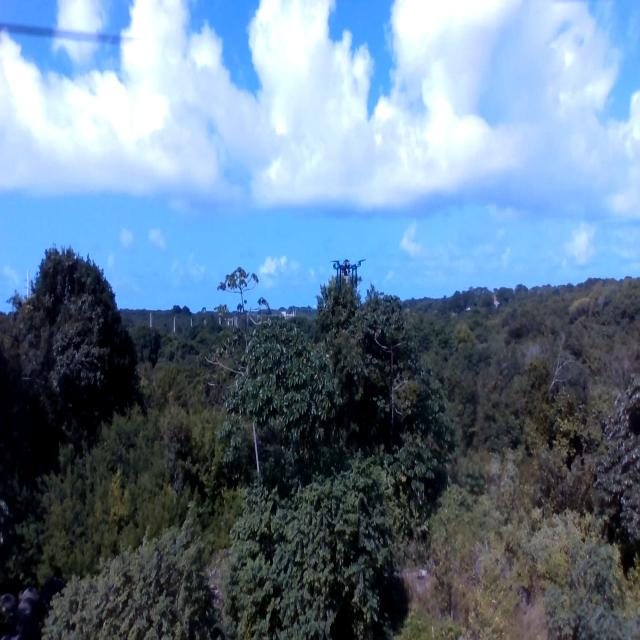-uav-: (326, 249, 366, 289)
